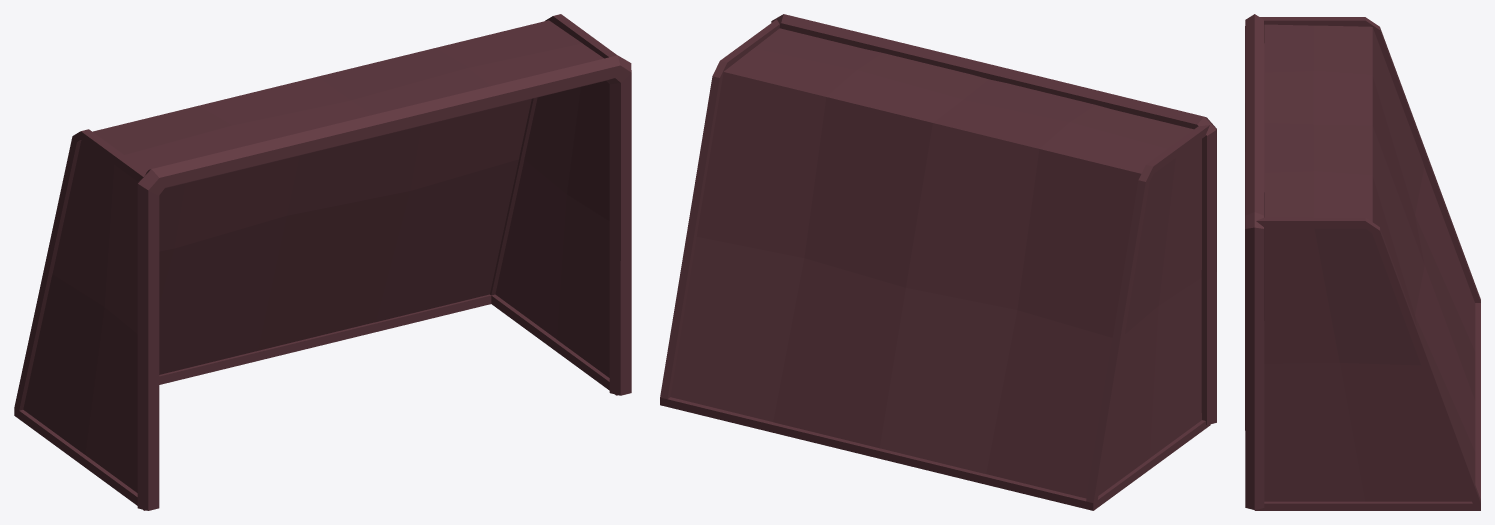
The model's file is soccer-gate.fbx.
3 renders of one model, left to right at view 1: azimuth 30°, elevation 25°; view 2: azimuth 150°, elevation 25°; view 3: azimuth 270°, elevation 25°, orthographic. The views are drawn at different scales.
Parts seen in each view (by area): view 1: soccer-gate; view 2: soccer-gate; view 3: soccer-gate.
Part boxes in pixels (<box>): soccer-gate: <box>14,14,631,510</box>; soccer-gate: <box>660,14,1216,510</box>; soccer-gate: <box>1245,14,1480,510</box>.
Size of the model in its own units: 3.34 by 2.2 by 1.59.
